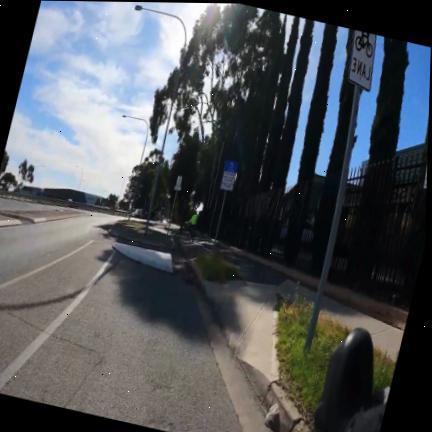Bike_Sign: (348, 30, 376, 92)
